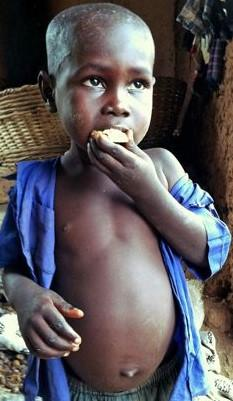Stunting: (27, 10, 183, 191)
